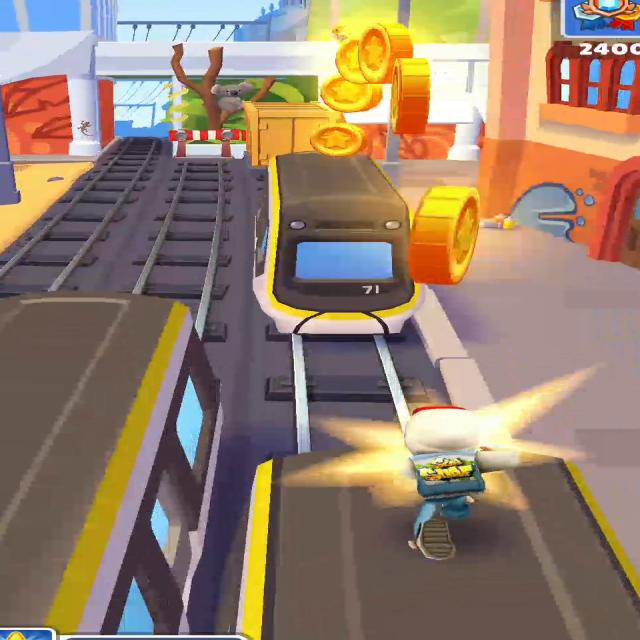block pillar: (166, 78, 261, 157)
train: (234, 136, 429, 336), (245, 102, 343, 166)
